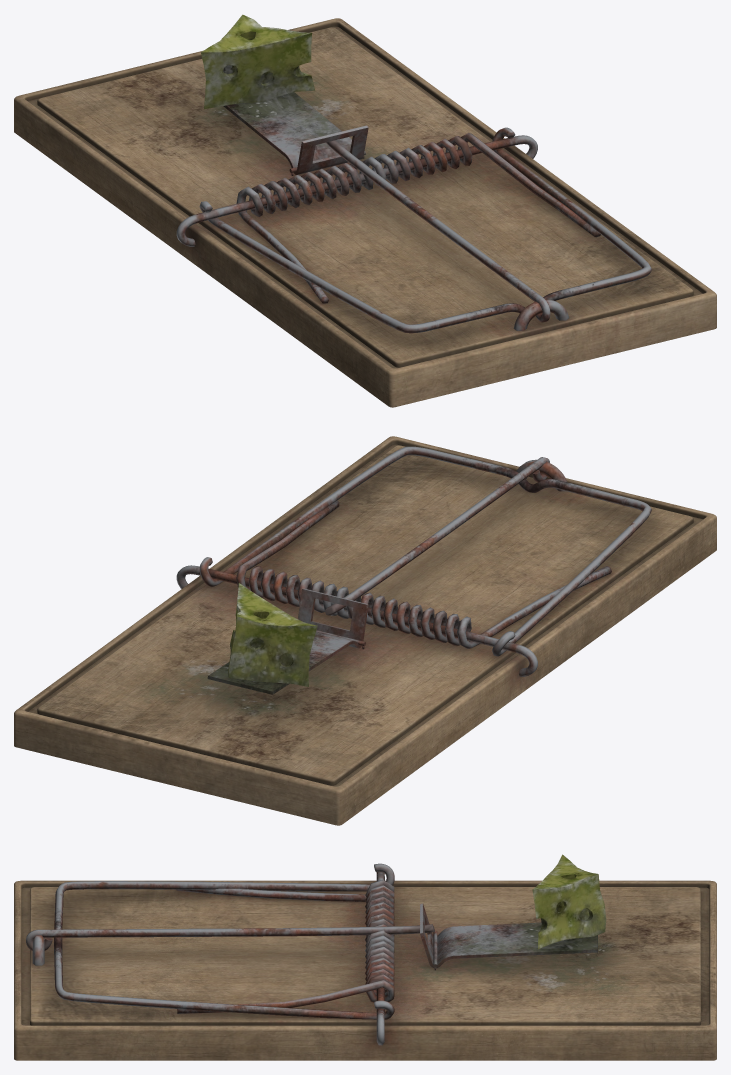
File: mousetrap.glb
3 views of the same model, one above another, from view 1: azimuth 30°, elevation 25°; view 2: azimuth 150°, elevation 25°; view 3: azimuth 270°, elevation 25° (orthographic). The views are drawn at different scales.
Visible parts, largest first — view 1: mousetrap; view 2: mousetrap; view 3: mousetrap.
Boxes of the visible parts, <box> form: mousetrap: <box>14,14,716,407</box>; mousetrap: <box>14,436,716,825</box>; mousetrap: <box>14,854,716,1060</box>.
Bounding box in the file's own units: 0.055 × 0.0179 × 0.1004.
1 material, 1 textured.
